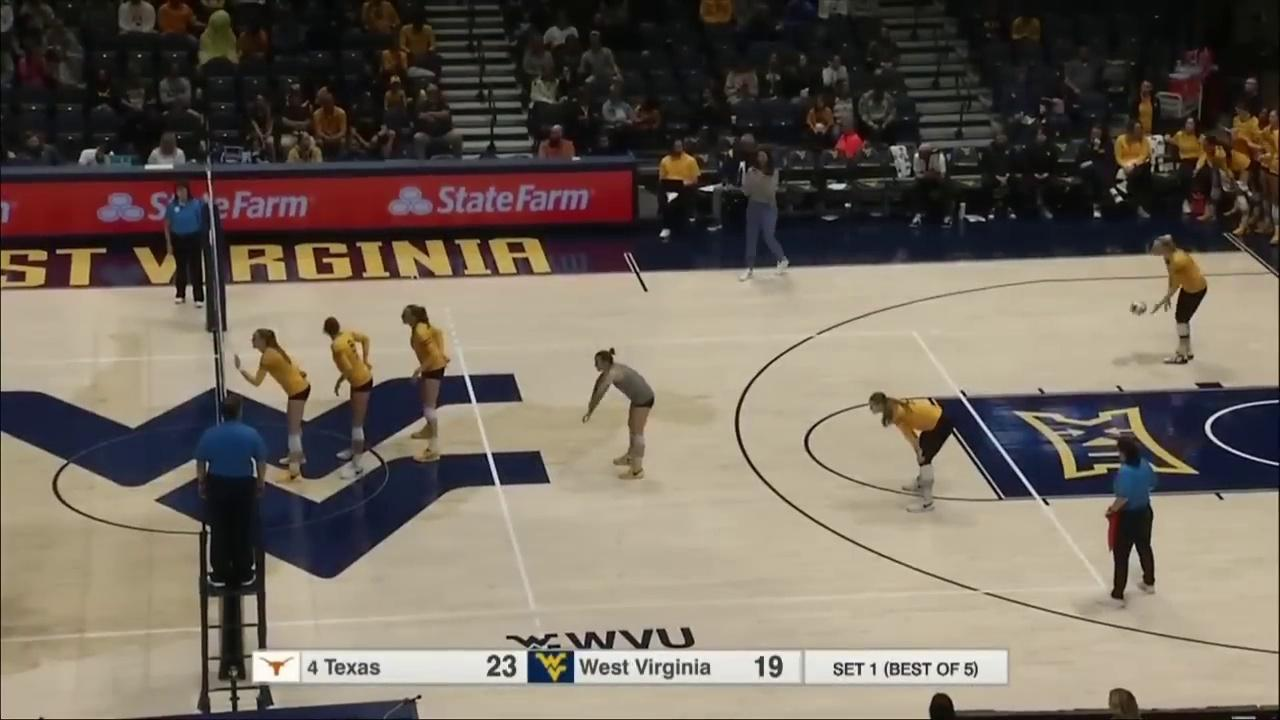player: (237, 329, 309, 481), (869, 392, 953, 512), (584, 350, 657, 479), (323, 318, 373, 478), (399, 305, 449, 462), (1151, 235, 1209, 362)
refree: (196, 393, 268, 587), (1104, 437, 1159, 609), (164, 185, 210, 307)
